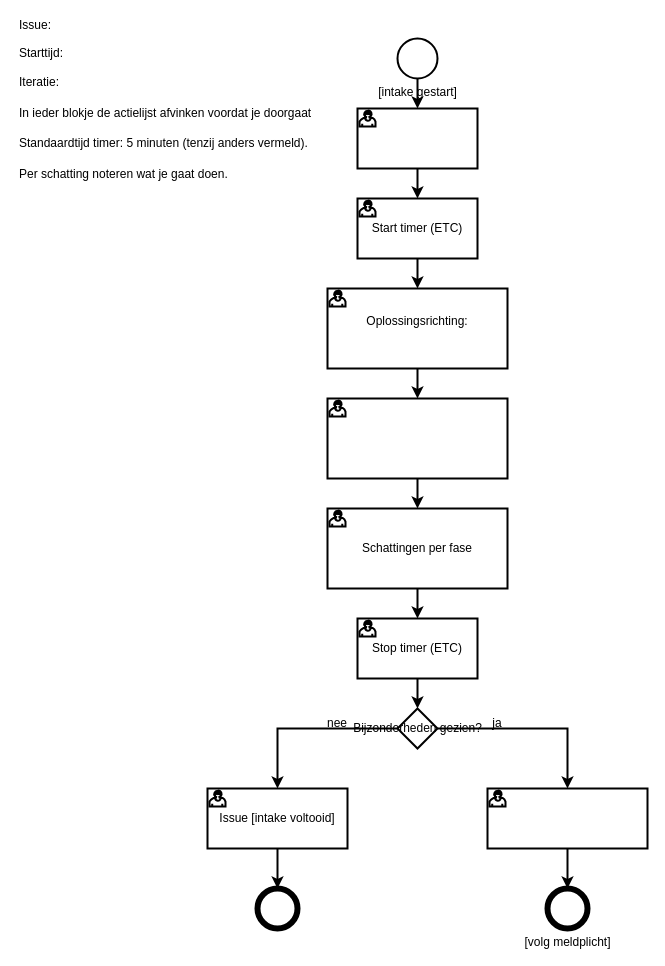
Some shapes in this 665 by 966 pixel diagram are drawn without their labels. Each missing label, with the centre of its shape:
"[volg review aanpak]" goes at point 277,908.
"Deliverable specificatie:" goes at point 417,438.
"Issue [meldplicht getriggerd]" goes at point 567,818.
"Issue [nieuw]" goes at point 417,138.
